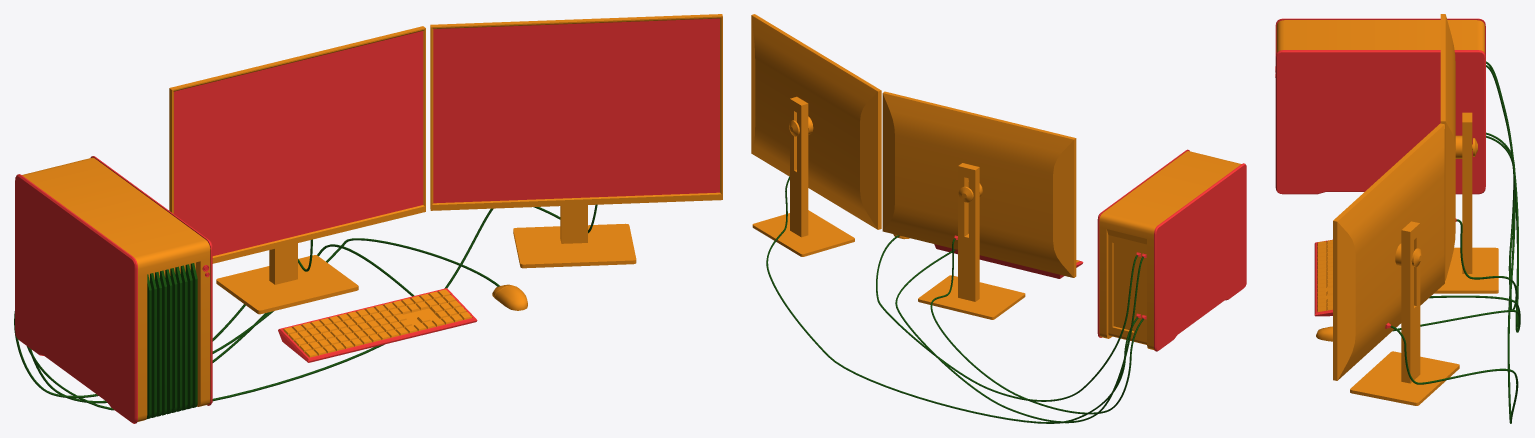
The picture shows the model from 3 angles, left to right: view 1: azimuth 30°, elevation 25°; view 2: azimuth 150°, elevation 25°; view 3: azimuth 270°, elevation 25°; orthographic projection. The views are drawn at different scales.
Visible parts, largest first — view 1: Object004; view 2: Object004; view 3: Object004.
Part boxes in pixels (x1=…): Object004: x1=14, y1=14, x2=722, y2=423; Object004: x1=751, y1=14, x2=1246, y2=423; Object004: x1=1275, y1=14, x2=1520, y2=423.
Bounding box in the file's own units: 57.76 × 31.9 × 22.75.
